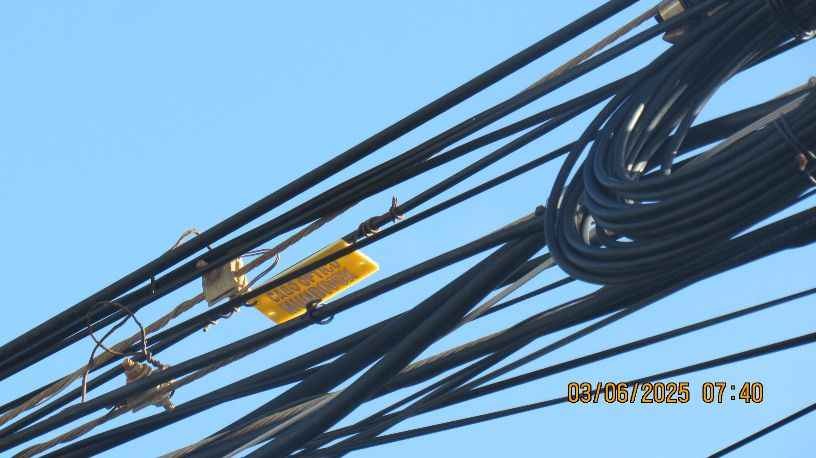fibra_optica: (218, 220, 398, 357)
tronco_metalico: (537, 1, 816, 299)
